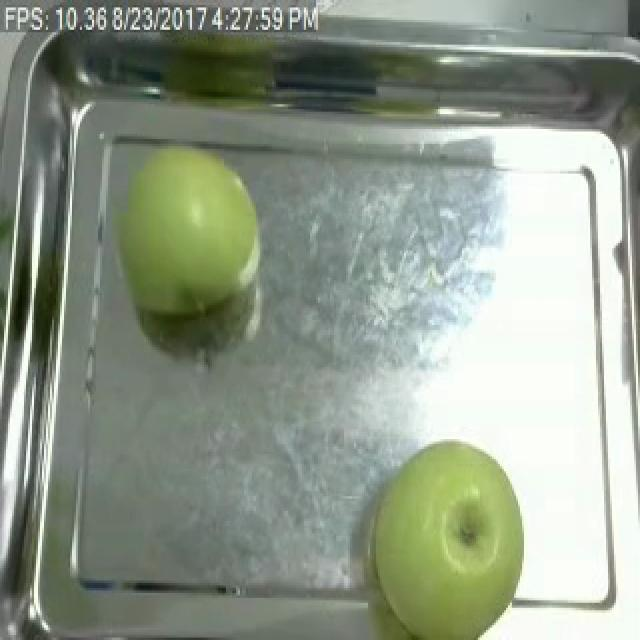50-_ripeness: (372, 439, 525, 632), (116, 146, 261, 317)
